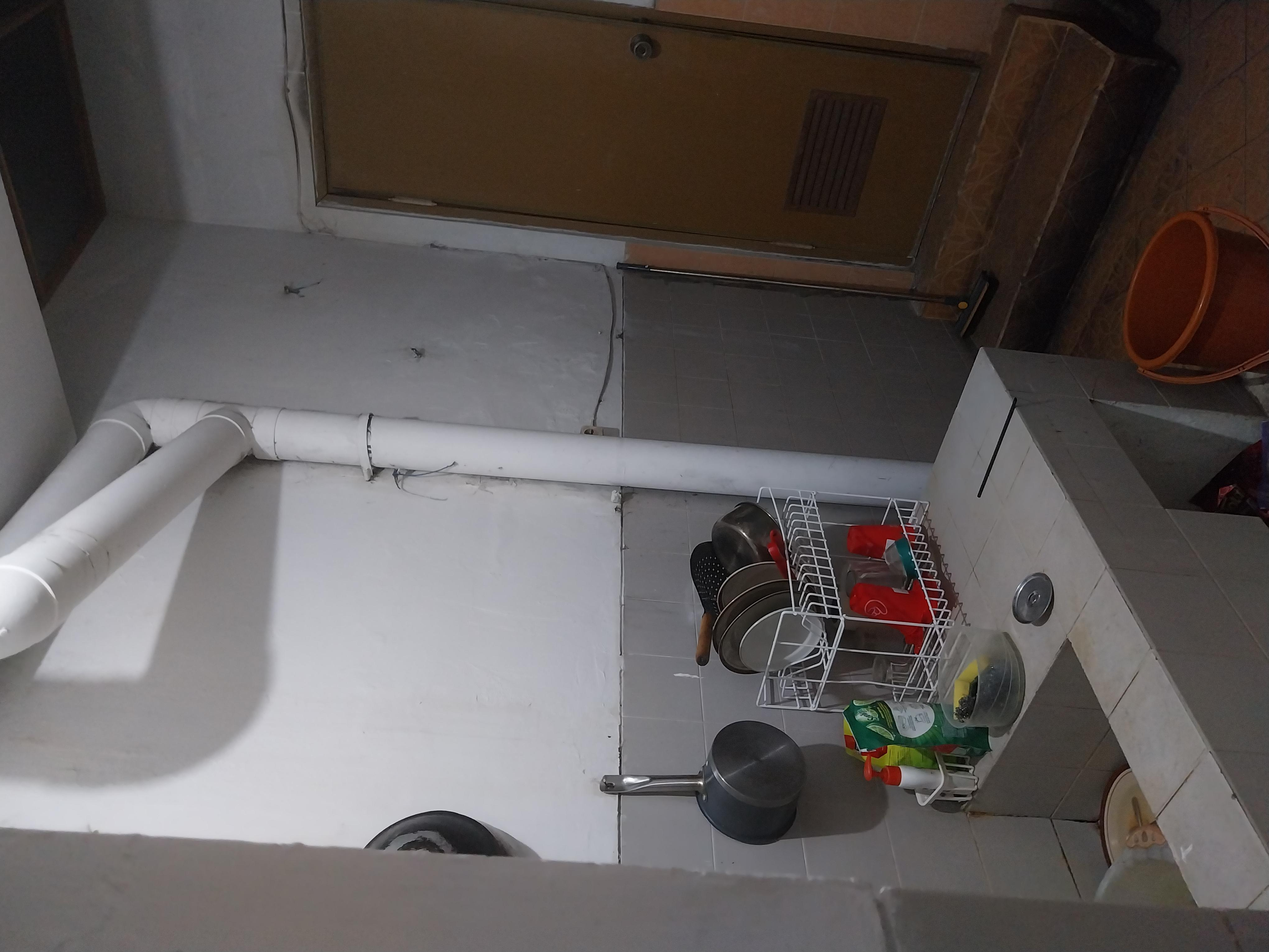door-stuff: (904, 215, 1269, 731)
pan: (127, 448, 365, 616), (128, 272, 194, 380)
plate: (361, 527, 510, 598), (117, 804, 248, 877), (359, 546, 474, 623), (416, 527, 511, 595), (454, 531, 530, 589), (464, 550, 465, 551)
